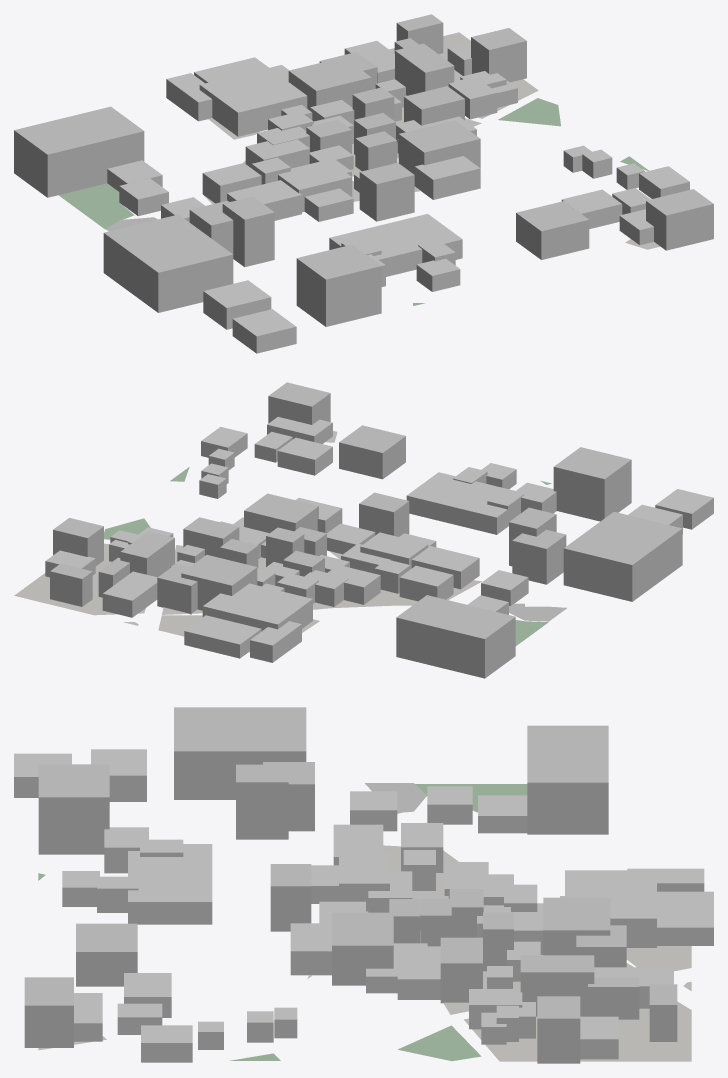
Rendered from 122_94_mid.glb.
3 renders of one model, top to bottom at view 1: azimuth 30°, elevation 25°; view 2: azimuth 150°, elevation 25°; view 3: azimuth 270°, elevation 25°, orthographic. The views are drawn at different scales.
Bounding box in the file's own units: 553 × 50.21 × 536.
